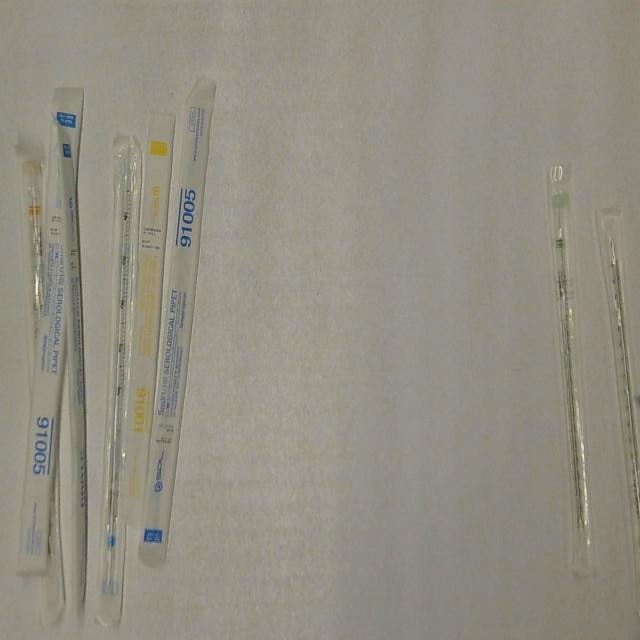Serelogical Pipet 1 mL: (118, 109, 179, 529)
Serelogical Pipet 10 mL: (19, 145, 52, 384)
Serelogical Pipet 2 mL: (542, 162, 600, 583)
Serelogical Pipet 5 mL: (139, 78, 221, 572), (15, 84, 90, 579), (94, 135, 144, 630), (54, 119, 96, 616)
